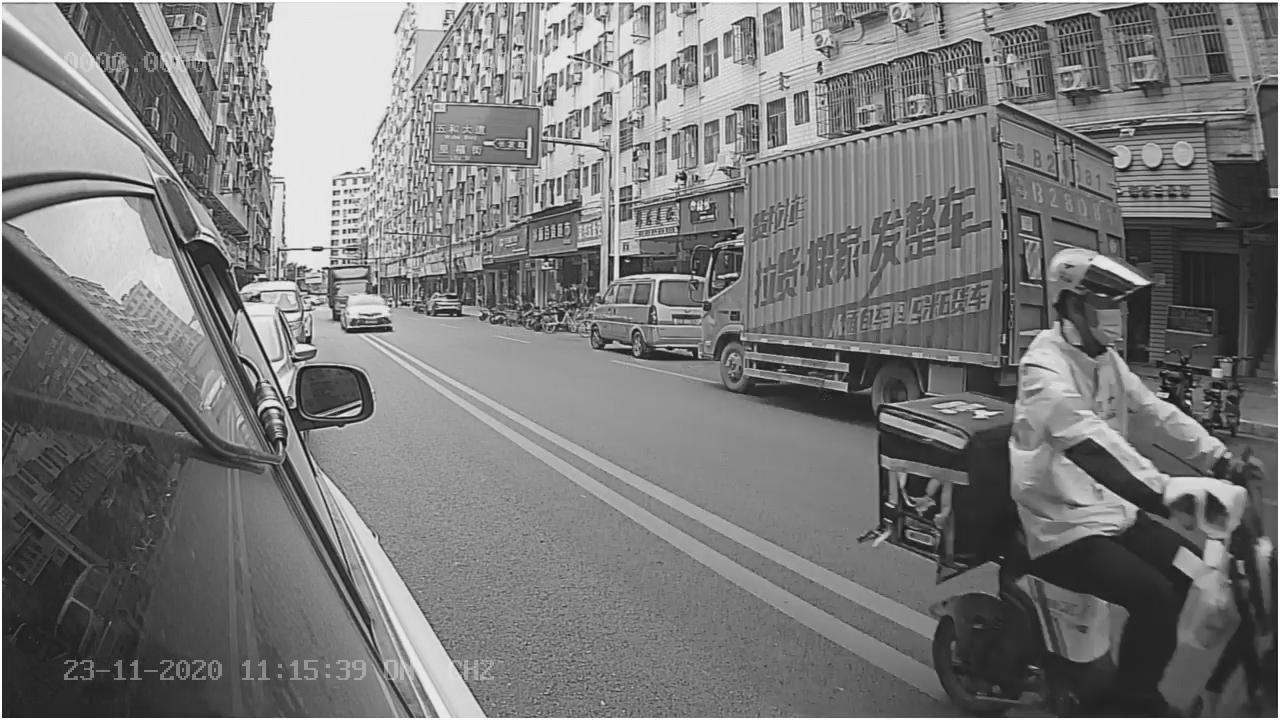person: (1012, 249, 1262, 489)
